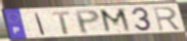3: (130, 6, 154, 34)
I: (34, 12, 47, 36)
M: (98, 8, 134, 35)
P: (73, 9, 102, 35)
R: (152, 6, 183, 32)
T: (51, 11, 72, 36)
